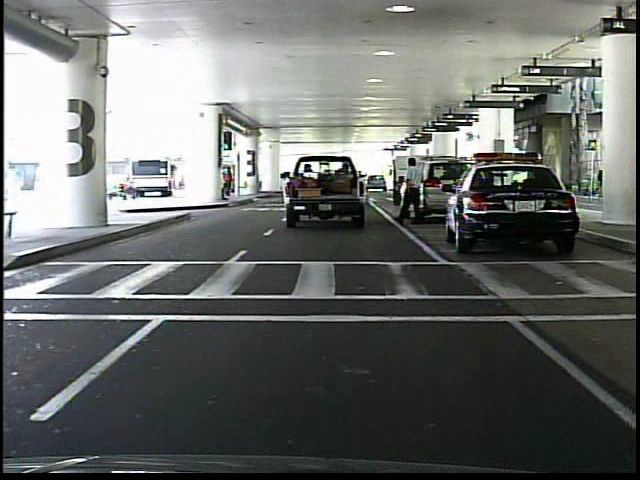person: (395, 156, 431, 228), (223, 160, 237, 201)
